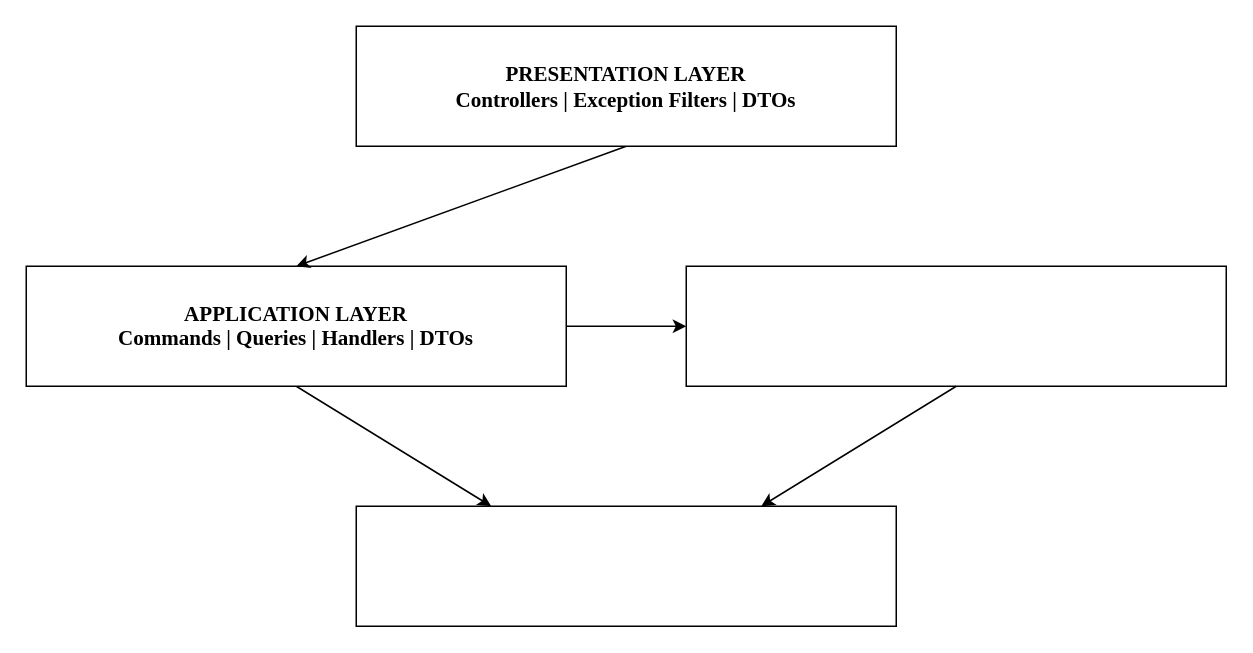
Image size: 1253x653. Some labels were removed from this diagram. Here are the shapes that lost their labels. From the top down, the centre of each, then its label:
At pixel 955 325: "INFRASTRUCTURE LAYER TypeORM | Mongoose | Apache Kafka | Mappers".
At pixel 625 565: "DOMAIN LAYER Entities | Value Objects | Domain Repositories | Events".
